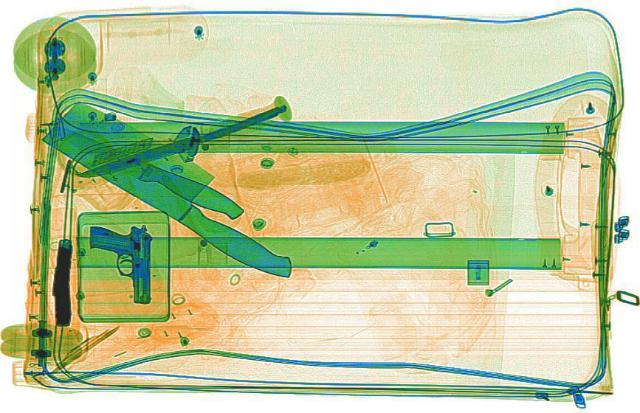Gun: (88, 223, 152, 303), (52, 238, 72, 324)
Knife: (20, 96, 338, 283), (30, 113, 252, 220), (74, 102, 292, 181)
